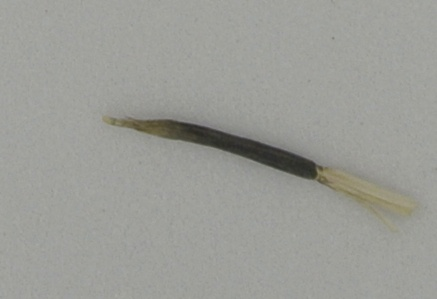เมล้ดปลายพู่กัน: (102, 110, 421, 235)
